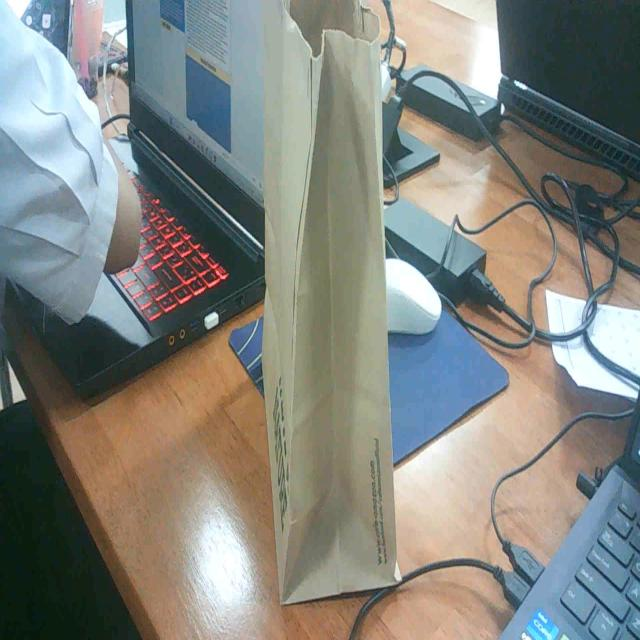bag: (248, 17, 419, 632)
